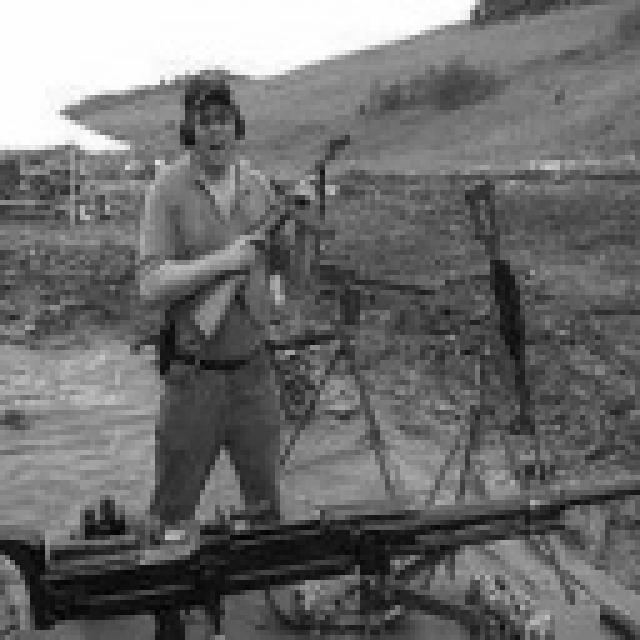Rifle: (0, 490, 609, 640), (147, 114, 372, 388), (452, 184, 594, 504), (289, 242, 426, 489)
